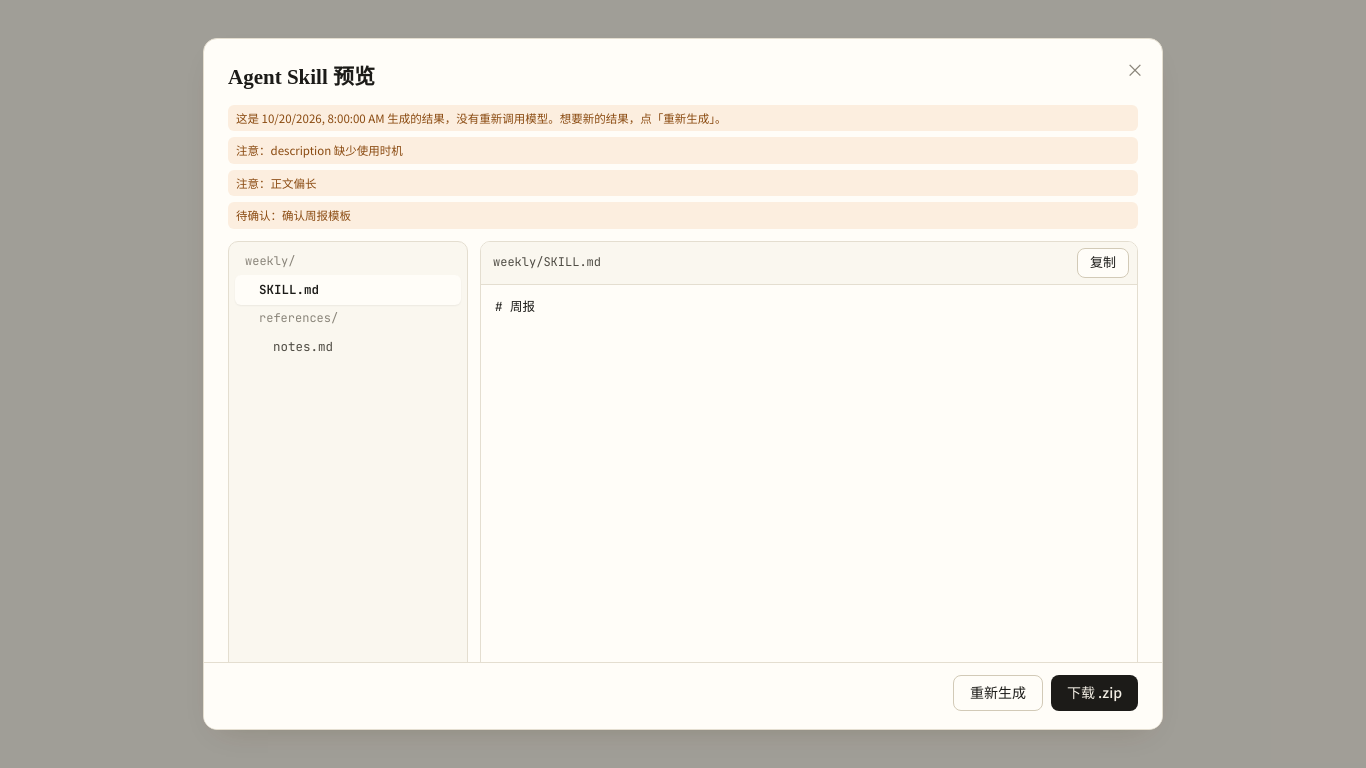
Test: 导出 Agent Skill 弹窗 › 结果取自缓存时说明生成时间；点「重新生成」带 refresh 重新请求，拿到新结果后替换
Check: the text with class "ep-code" reads "# 周报", box [495,298,535,315]
Click the button "重新生成" at x=998, y=693, box [953,675,1043,711]
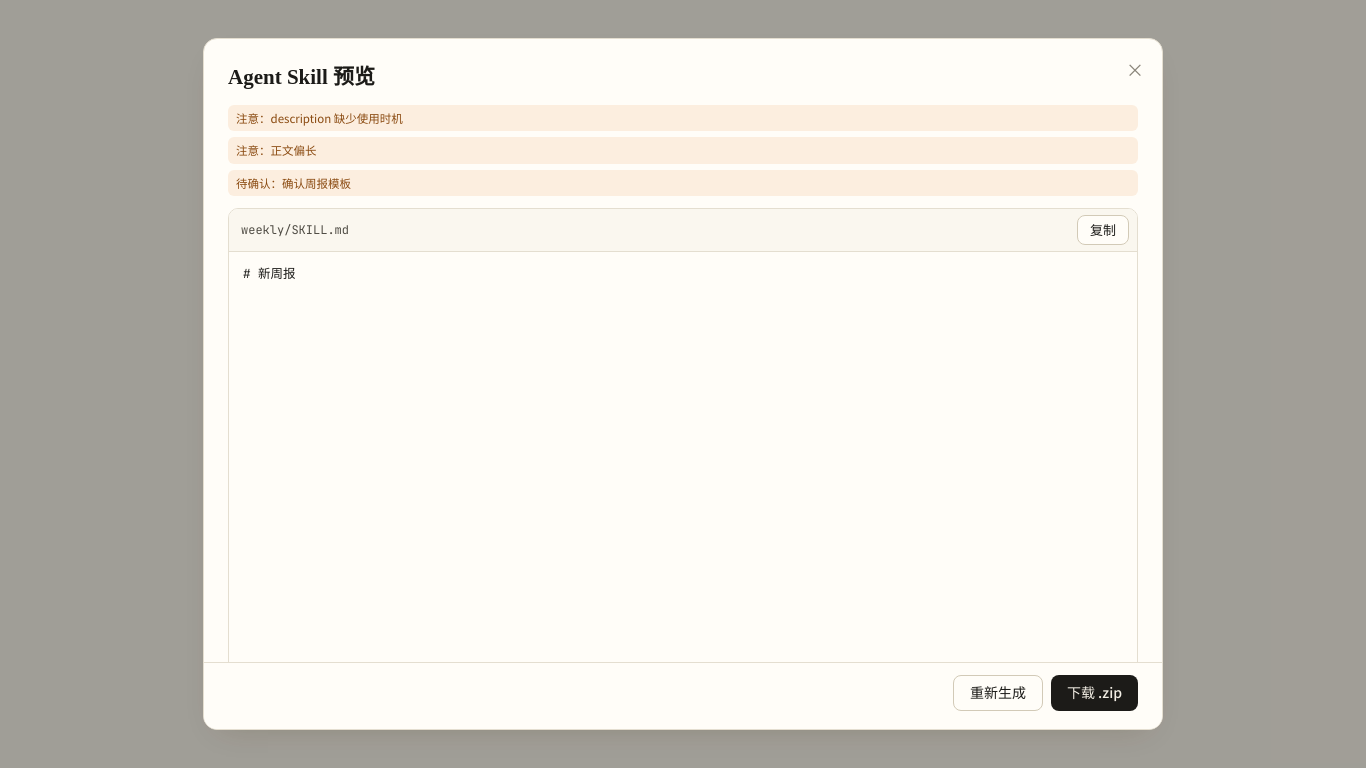
Check: the text with class "ep-code" reads "# 新周报", box [243,265,296,282]
Check: the text "没有重新调用模型" is gone
